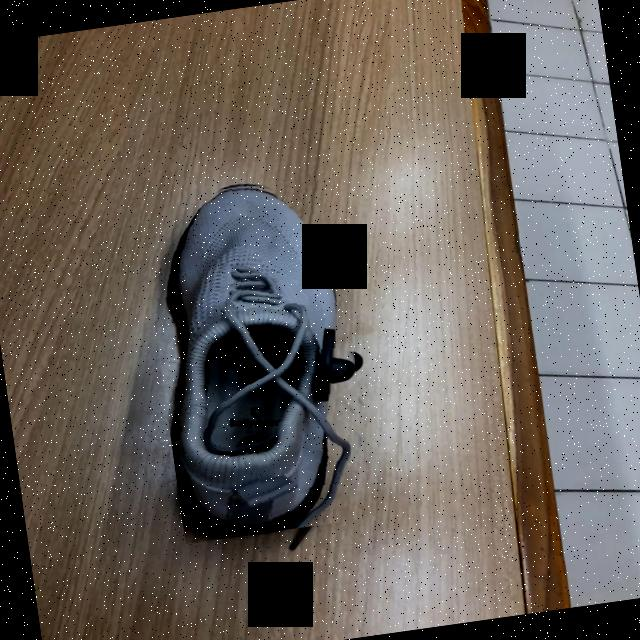shoe: (167, 188, 357, 538)
